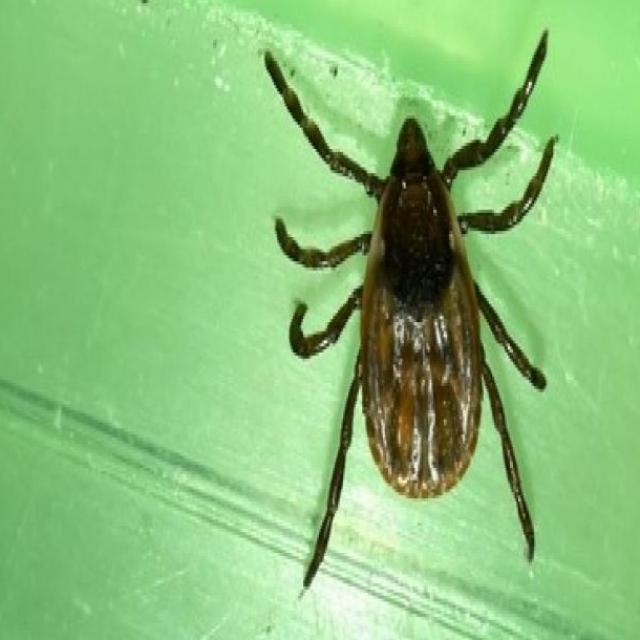Rhipicephalus Sanguineus-F: (265, 27, 560, 590)
